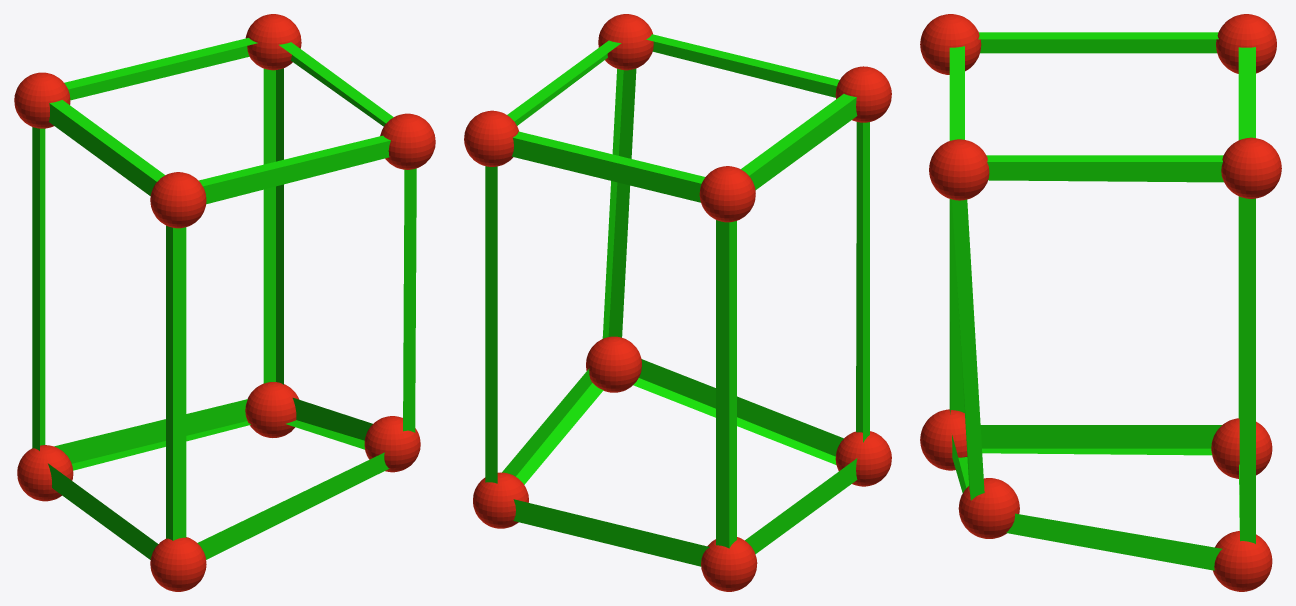
File: RHomboedrique.fbx
3 renders of one model, left to right at view 1: azimuth 30°, elevation 25°; view 2: azimuth 150°, elevation 25°; view 3: azimuth 270°, elevation 25°, orthographic. The views are drawn at different scales.
Visible parts, largest first — view 1: Cube; view 2: Cube; view 3: Cube.
Part boxes in pixels (x1=…): Cube: x1=14, y1=14, x2=435, y2=591; Cube: x1=464, y1=14, x2=891, y2=591; Cube: x1=920, y1=14, x2=1281, y2=591.
Bounding box in the file's own units: 231 × 331 × 236.
